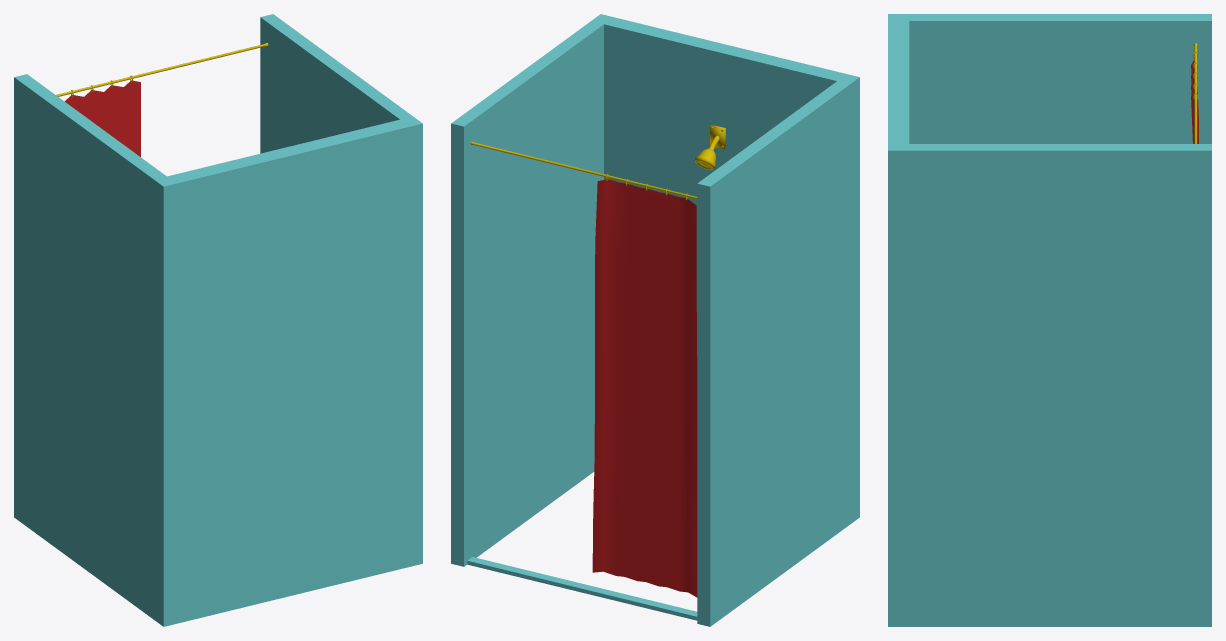
The model's file is SNWP_MOD_BUN_Shower.fbx.
The picture shows the model from 3 angles, left to right: view 1: azimuth 30°, elevation 25°; view 2: azimuth 150°, elevation 25°; view 3: azimuth 270°, elevation 25°; orthographic projection. The views are drawn at different scales.
Visible parts, largest first — view 1: SNWP_MOD_Shower; view 2: SNWP_MOD_Shower; view 3: SNWP_MOD_Shower.
Part boxes in pixels (left/top/right/bottom): SNWP_MOD_Shower: left=14, top=14, right=422, bottom=626; SNWP_MOD_Shower: left=451, top=14, right=859, bottom=626; SNWP_MOD_Shower: left=888, top=14, right=1211, bottom=626.
Size of the model in its own units: 1.54 by 2.5 by 1.54.
